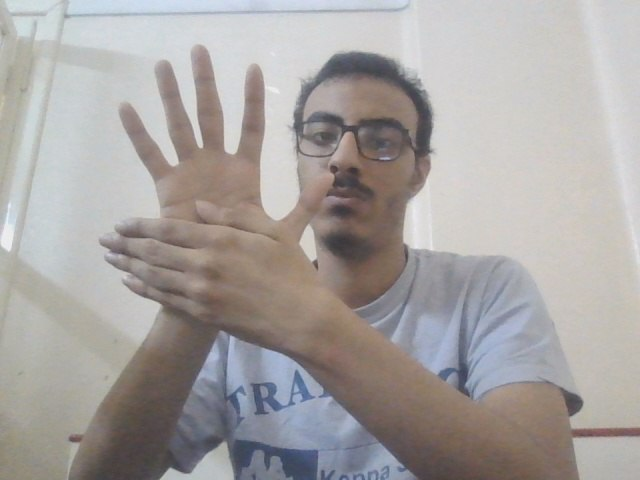Movie: (89, 41, 337, 360)
